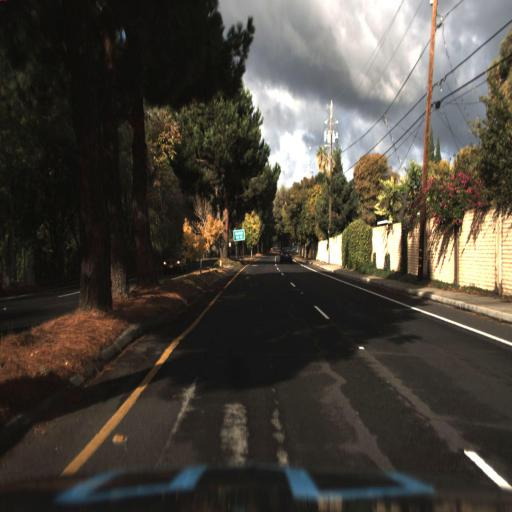car: (163, 250, 187, 276), (280, 247, 293, 265)
